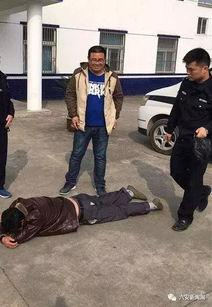down: (1, 185, 168, 244)
up: (59, 41, 127, 189), (160, 47, 212, 230)
